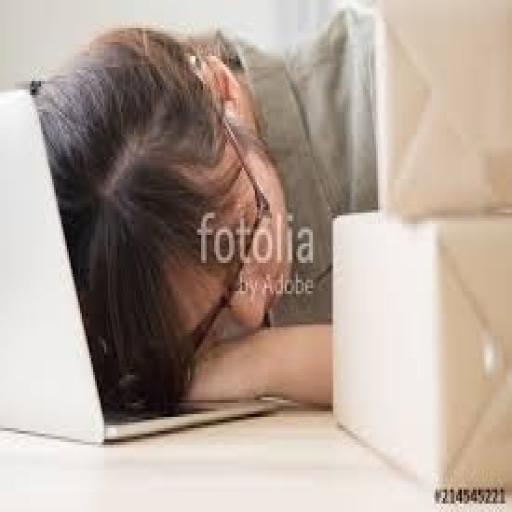sleeping: (26, 3, 387, 417)
